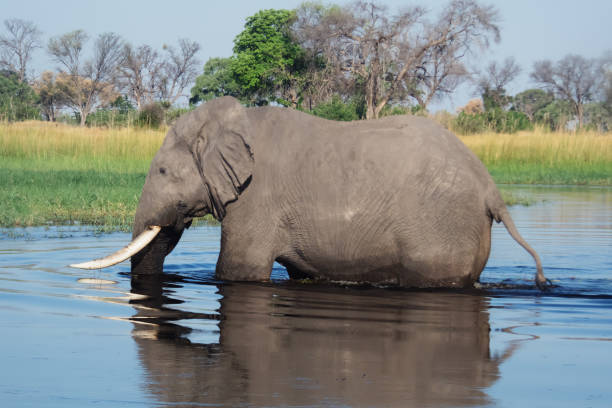africanelephant: (68, 87, 262, 285)
